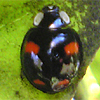Two_spots_mutant: (19, 4, 83, 93)
